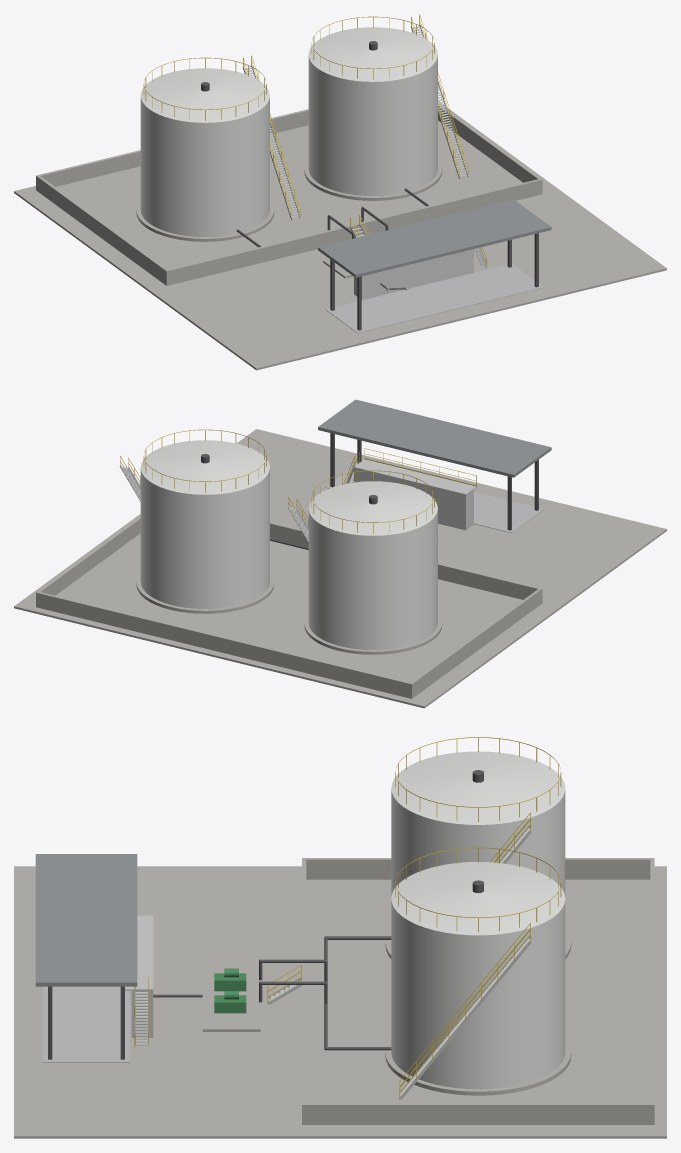
The model's file is SM_FuelOilTankFarm.fbx.
3 renders of one model, top to bottom at view 1: azimuth 30°, elevation 25°; view 2: azimuth 150°, elevation 25°; view 3: azimuth 270°, elevation 25°, orthographic. The views are drawn at different scales.
Parts seen in each view (by area): view 1: FT_Site; view 2: FT_Site; view 3: FT_Site.
Part boxes in pixels (<box>): FT_Site: <box>14,14,666,370</box>; FT_Site: <box>14,399,666,708</box>; FT_Site: <box>14,737,666,1138</box>.
Bounding box in the file's own units: 4400 × 1382 × 4500.
